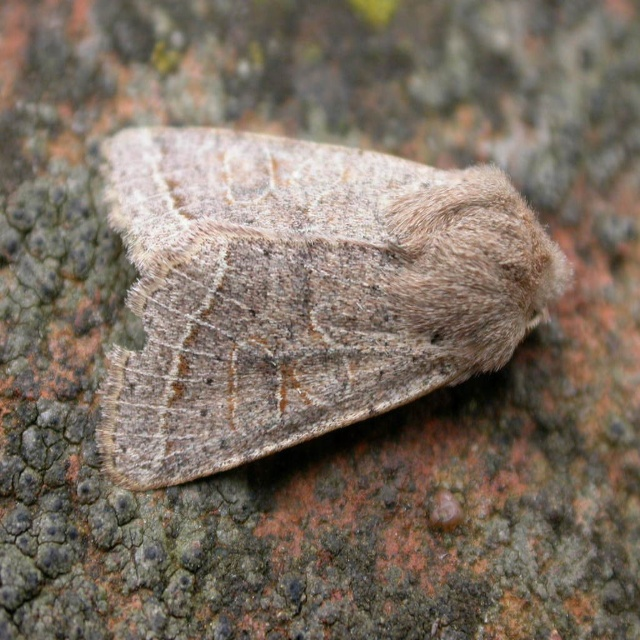Moths and butterflies: (101, 118, 576, 495)
